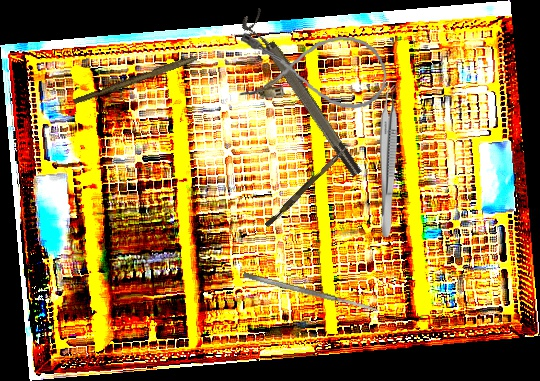Cannula: (236, 27, 390, 112)
Fixation Ring: (238, 7, 365, 184)
Pusher: (264, 142, 349, 230)
Scalpel Handle: (72, 52, 198, 107)
Spatula Surgical: (242, 271, 379, 314)
Tissue Forceps: (380, 85, 400, 237)
